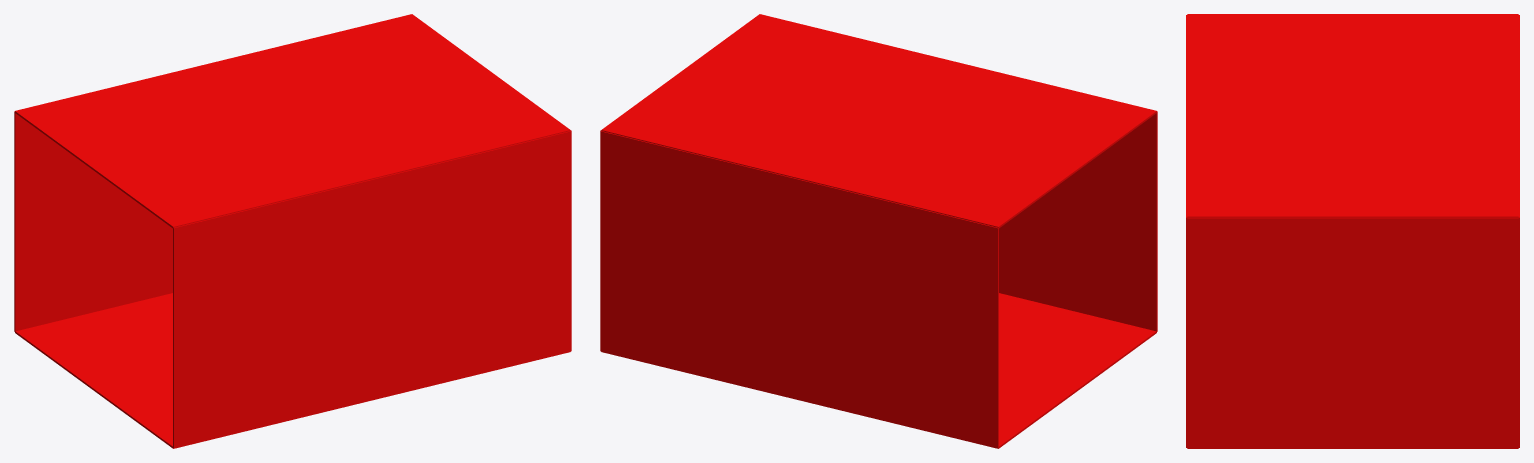
File: broad_short_cubbyhole.dae
3 renders of one model, left to right at view 1: azimuth 30°, elevation 25°; view 2: azimuth 150°, elevation 25°; view 3: azimuth 270°, elevation 25°, orthographic. The views are drawn at different scales.
Visible parts, largest first — view 1: BroadShortCubbyhole (×4); view 2: BroadShortCubbyhole (×4); view 3: BroadShortCubbyhole (×4).
Boxes of the visible parts, x1,y1,x2,y2 form: BroadShortCubbyhole (×4): (14,14,571,448); BroadShortCubbyhole (×4): (600,14,1157,448); BroadShortCubbyhole (×4): (1186,14,1519,448).
Size of the model in its own units: 0.4328 by 0.3004 by 0.2316.
